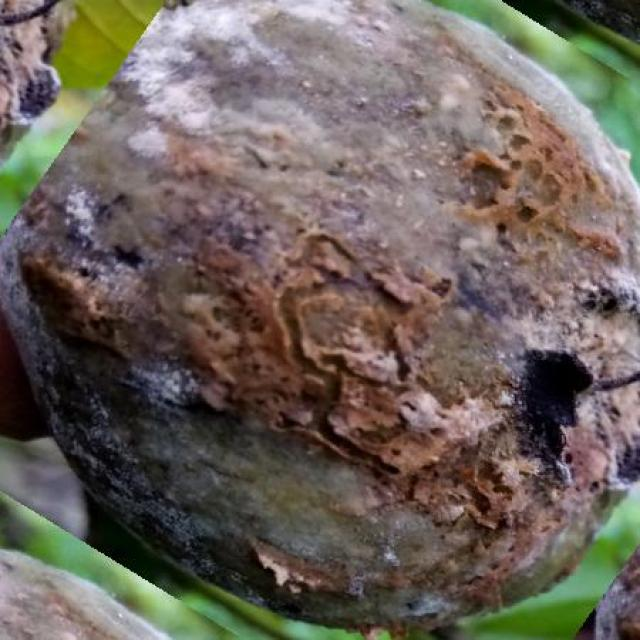Phytopthora: (0, 0, 640, 627), (0, 4, 66, 157), (0, 1, 46, 16)
